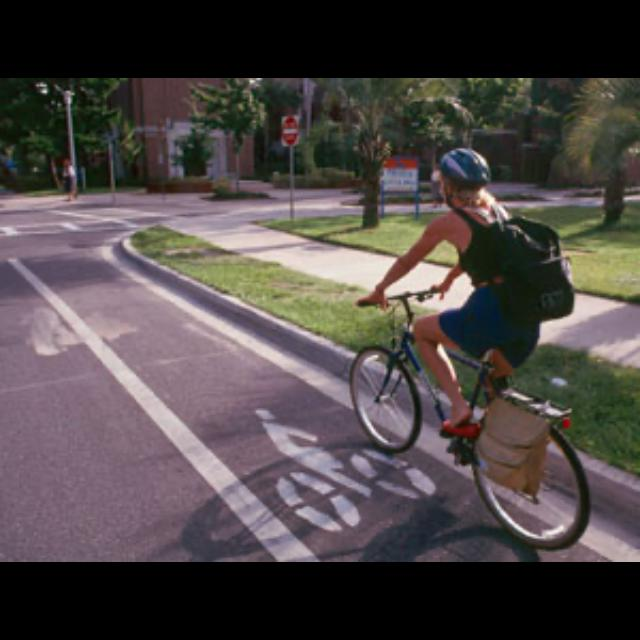With Helmet: (428, 144, 502, 198)
